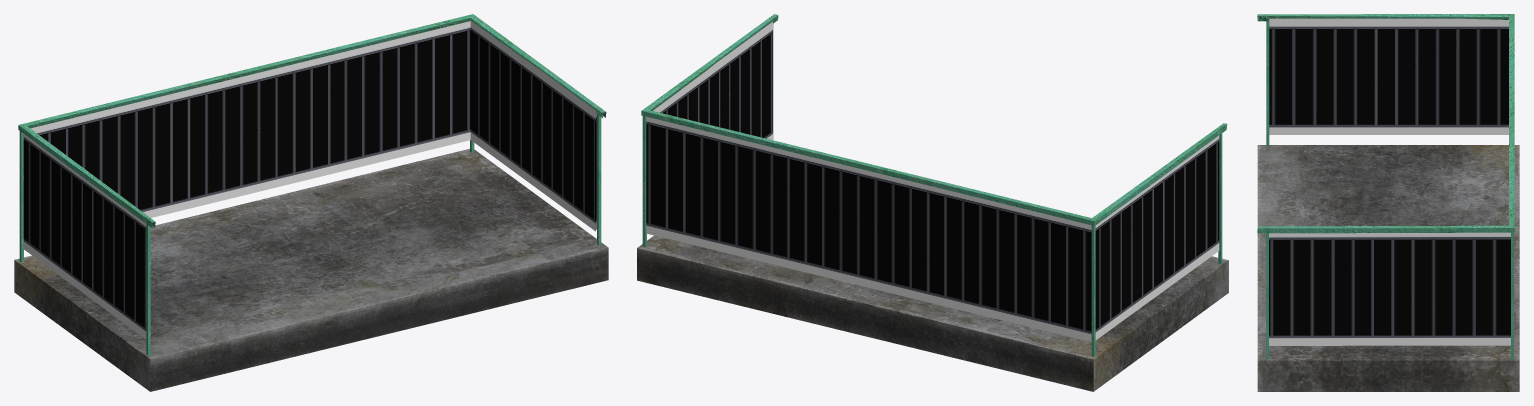
Rendered from balcony.fbx.
3 views of the same model, side by side, from view 1: azimuth 30°, elevation 25°; view 2: azimuth 150°, elevation 25°; view 3: azimuth 270°, elevation 25° (orthographic). The views are drawn at different scales.
Parts seen in each view (by area): view 1: ground, sideFence, fence2, fence1; view 2: sideFence, ground, fence1, fence2, railPillar2, railPillar1; view 3: ground, fence2, fence1, sideFence, railPillar1.
Boxes of the visible parts, <box> form: ground: <box>14,148,608,391</box>; sideFence: <box>19,14,472,217</box>; fence2: <box>470,14,606,245</box>; fence1: <box>18,125,155,355</box>; sideFence: <box>641,110,1094,341</box>; ground: <box>637,235,1228,391</box>; fence1: <box>1092,123,1227,356</box>; fence2: <box>641,14,778,246</box>; railPillar2: <box>1091,225,1095,356</box>; railPillar1: <box>642,116,645,246</box>; ground: <box>1257,145,1519,391</box>; fence2: <box>1257,225,1514,359</box>; fence1: <box>1257,14,1513,146</box>; sideFence: <box>1509,14,1514,227</box>; railPillar1: <box>1511,232,1513,358</box>.
Bounding box in the file's own units: 900 × 317 × 463.
